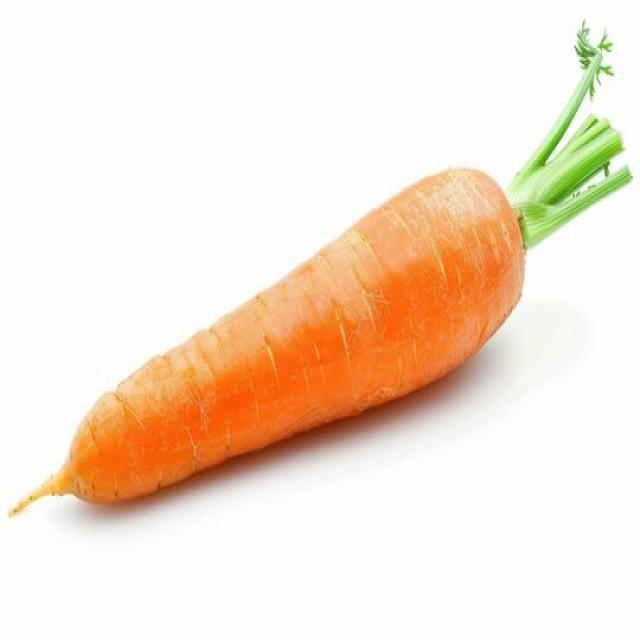Carrot: (6, 18, 633, 517)
